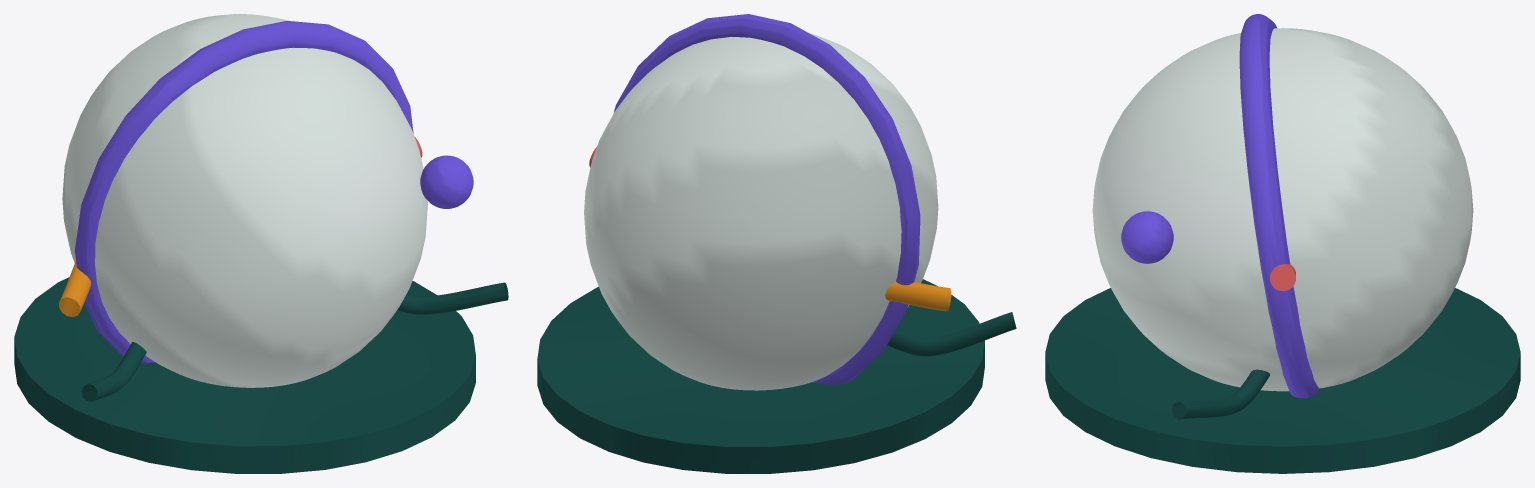
Rendered from 1230_细胞图鉴_细胞核.glb.
3 renders of one model, left to right at view 1: azimuth 30°, elevation 25°; view 2: azimuth 150°, elevation 25°; view 3: azimuth 270°, elevation 25°, orthographic. The views are drawn at different scales.
Visible parts, largest first — view 1: card_1230; view 2: card_1230; view 3: card_1230.
Boxes of the visible parts, left/top/right/bottom form: card_1230: left=14, top=14, right=508, bottom=473; card_1230: left=537, top=14, right=1016, bottom=473; card_1230: left=1045, top=14, right=1520, bottom=473.
Bounding box in the file's own units: 1.22 × 1 × 1.2.
